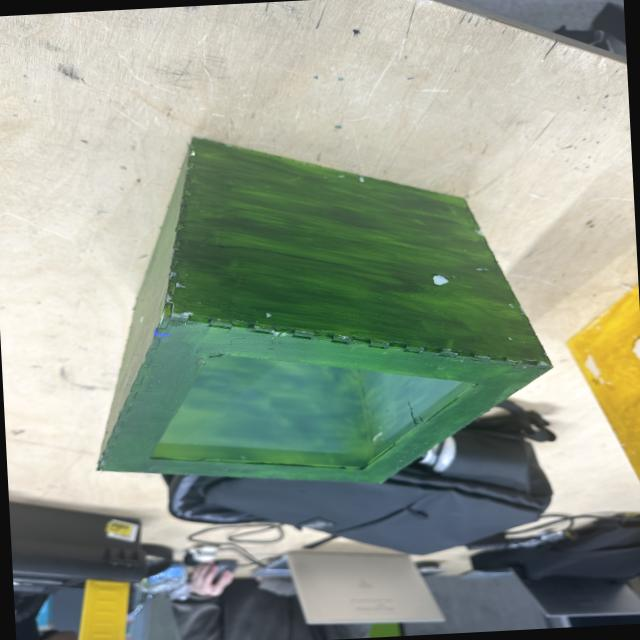green_bin: (77, 116, 560, 501)
